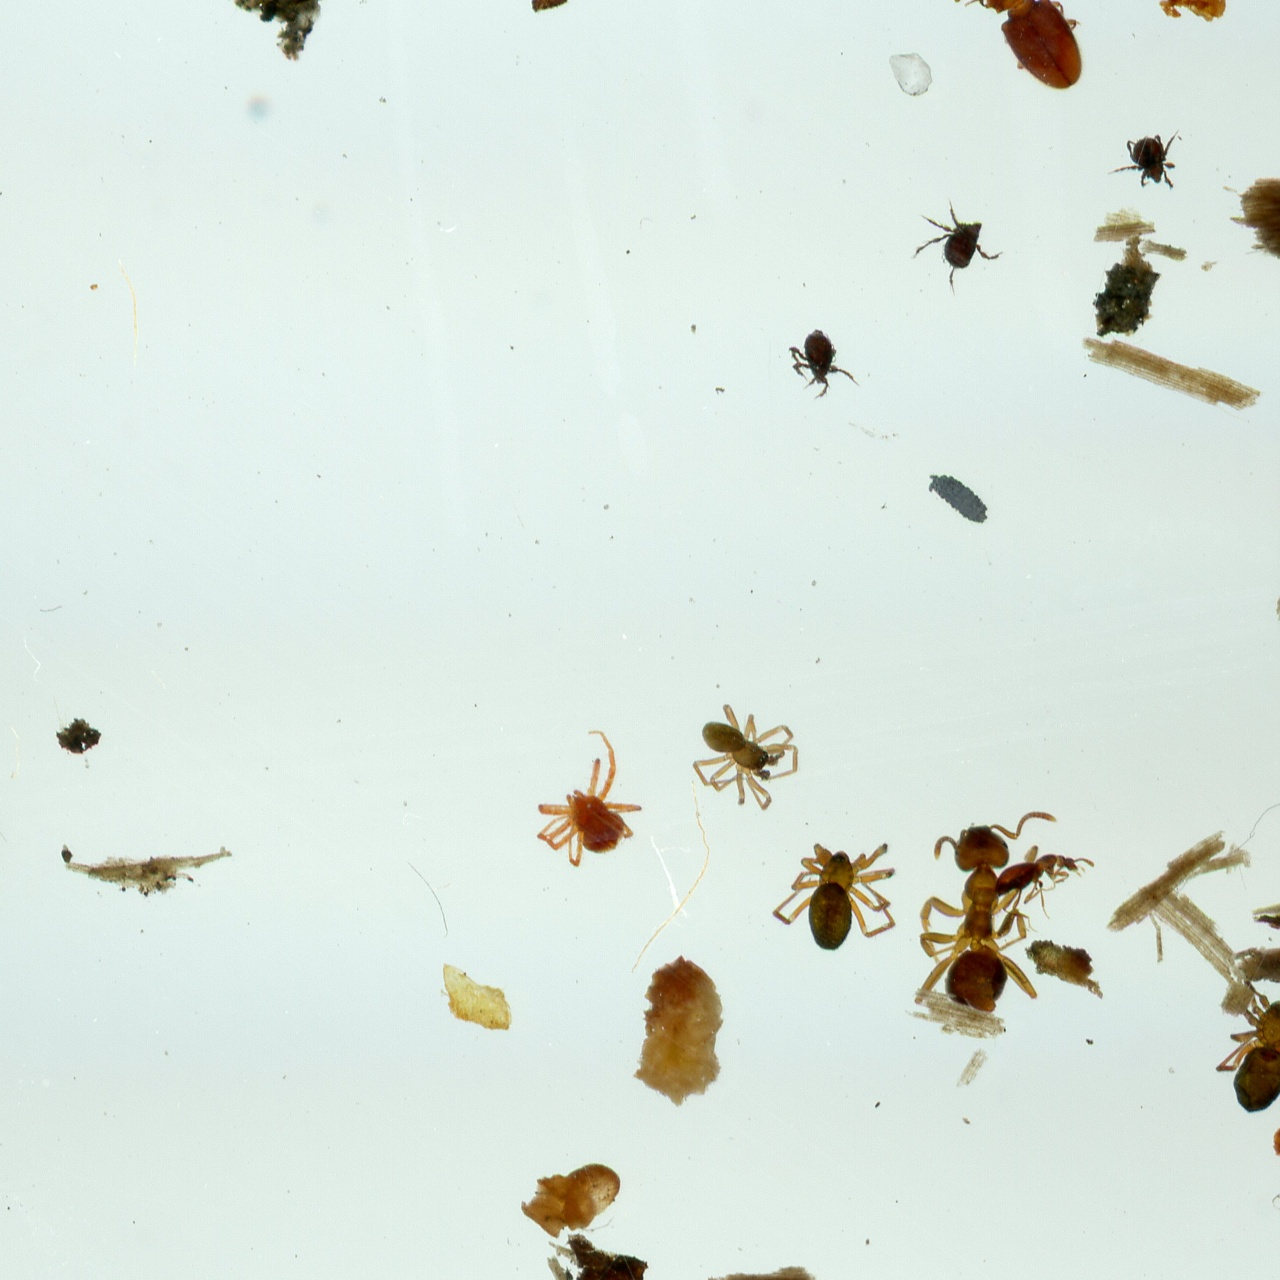arthropod: (910, 806, 1062, 1025), (499, 717, 670, 888), (937, 0, 1111, 120), (771, 835, 898, 956), (688, 702, 805, 814), (1201, 966, 1280, 1129), (987, 841, 1107, 934), (909, 193, 1004, 295), (915, 459, 1003, 533), (786, 325, 862, 403), (1101, 126, 1181, 192)
